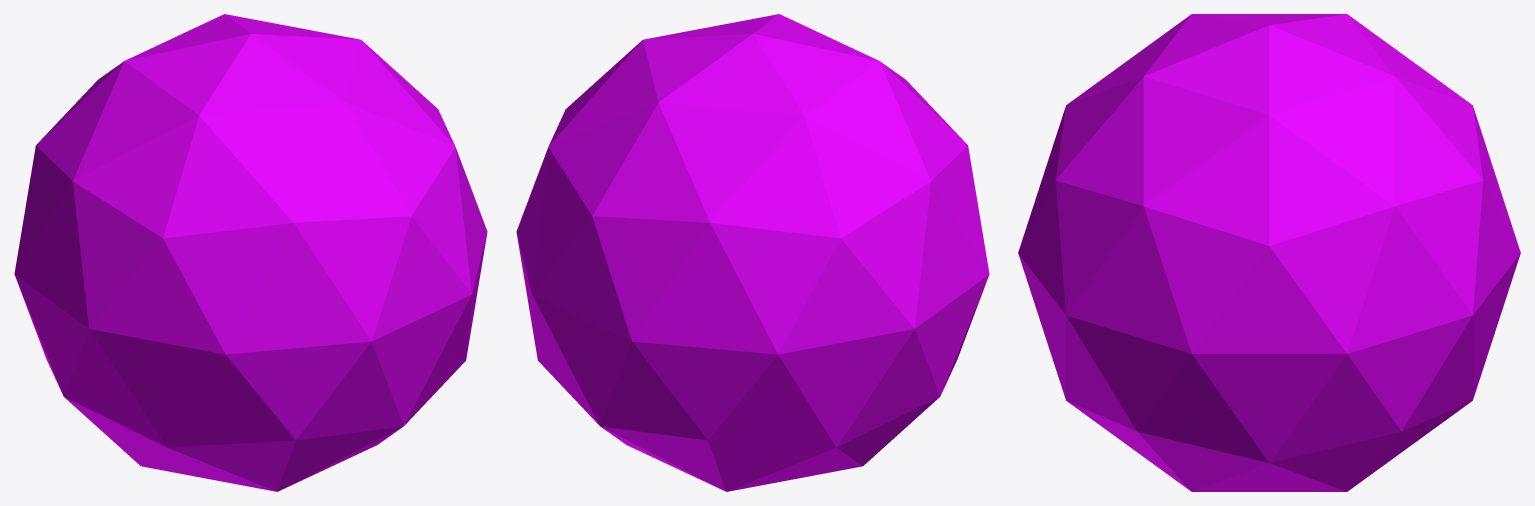
The model's file is Enemy4.obj.
The picture shows the model from 3 angles, left to right: view 1: azimuth 30°, elevation 25°; view 2: azimuth 150°, elevation 25°; view 3: azimuth 270°, elevation 25°; orthographic projection. The views are drawn at different scales.
Parts seen in each view (by area): view 1: ICO球; view 2: ICO球; view 3: ICO球.
Boxes of the visible parts, x1,y1,x2,y2 form: ICO球: (14, 14, 487, 491); ICO球: (516, 14, 989, 491); ICO球: (1018, 14, 1520, 491).
Bounding box in the file's own units: 1.9 × 2 × 2.
